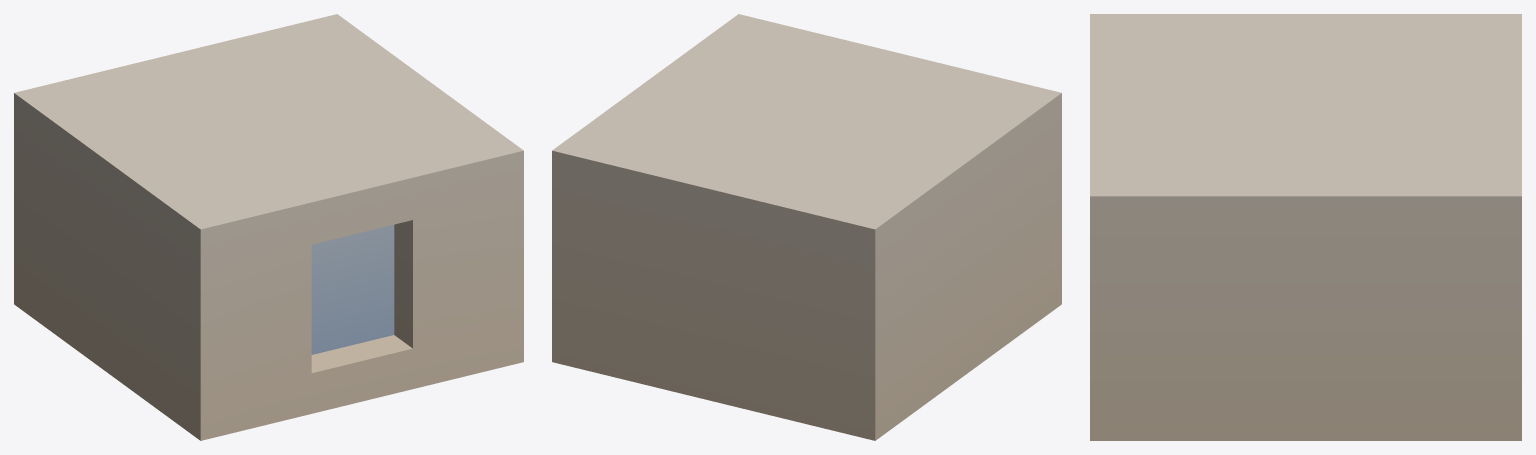
File: building-window.glb
3 views of the same model, side by side, from view 1: azimuth 30°, elevation 25°; view 2: azimuth 150°, elevation 25°; view 3: azimuth 270°, elevation 25° (orthographic). The views are drawn at different scales.
Visible parts, largest first — view 1: building-window; view 2: building-window; view 3: building-window.
Boxes of the visible parts, left/top/right/bottom form: building-window: left=14, top=14, right=523, bottom=440; building-window: left=552, top=14, right=1061, bottom=440; building-window: left=1090, top=14, right=1521, bottom=440.
Size of the model in its own units: 1 by 0.625 by 1.
